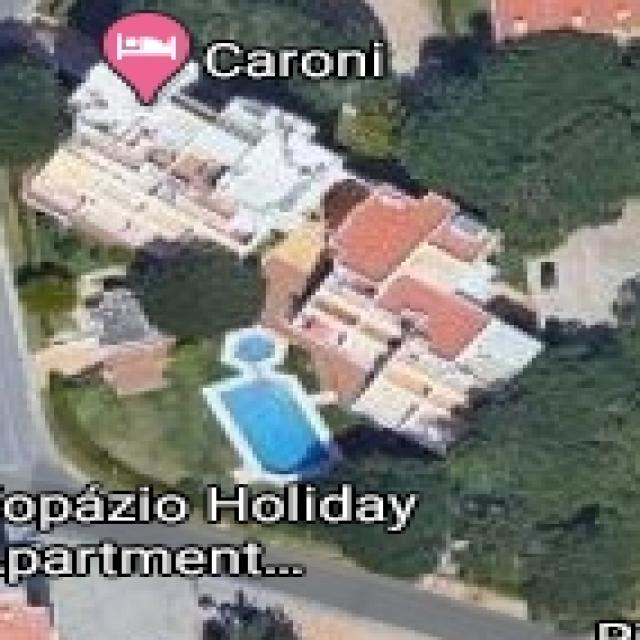swimming pool: (198, 325, 342, 481)
